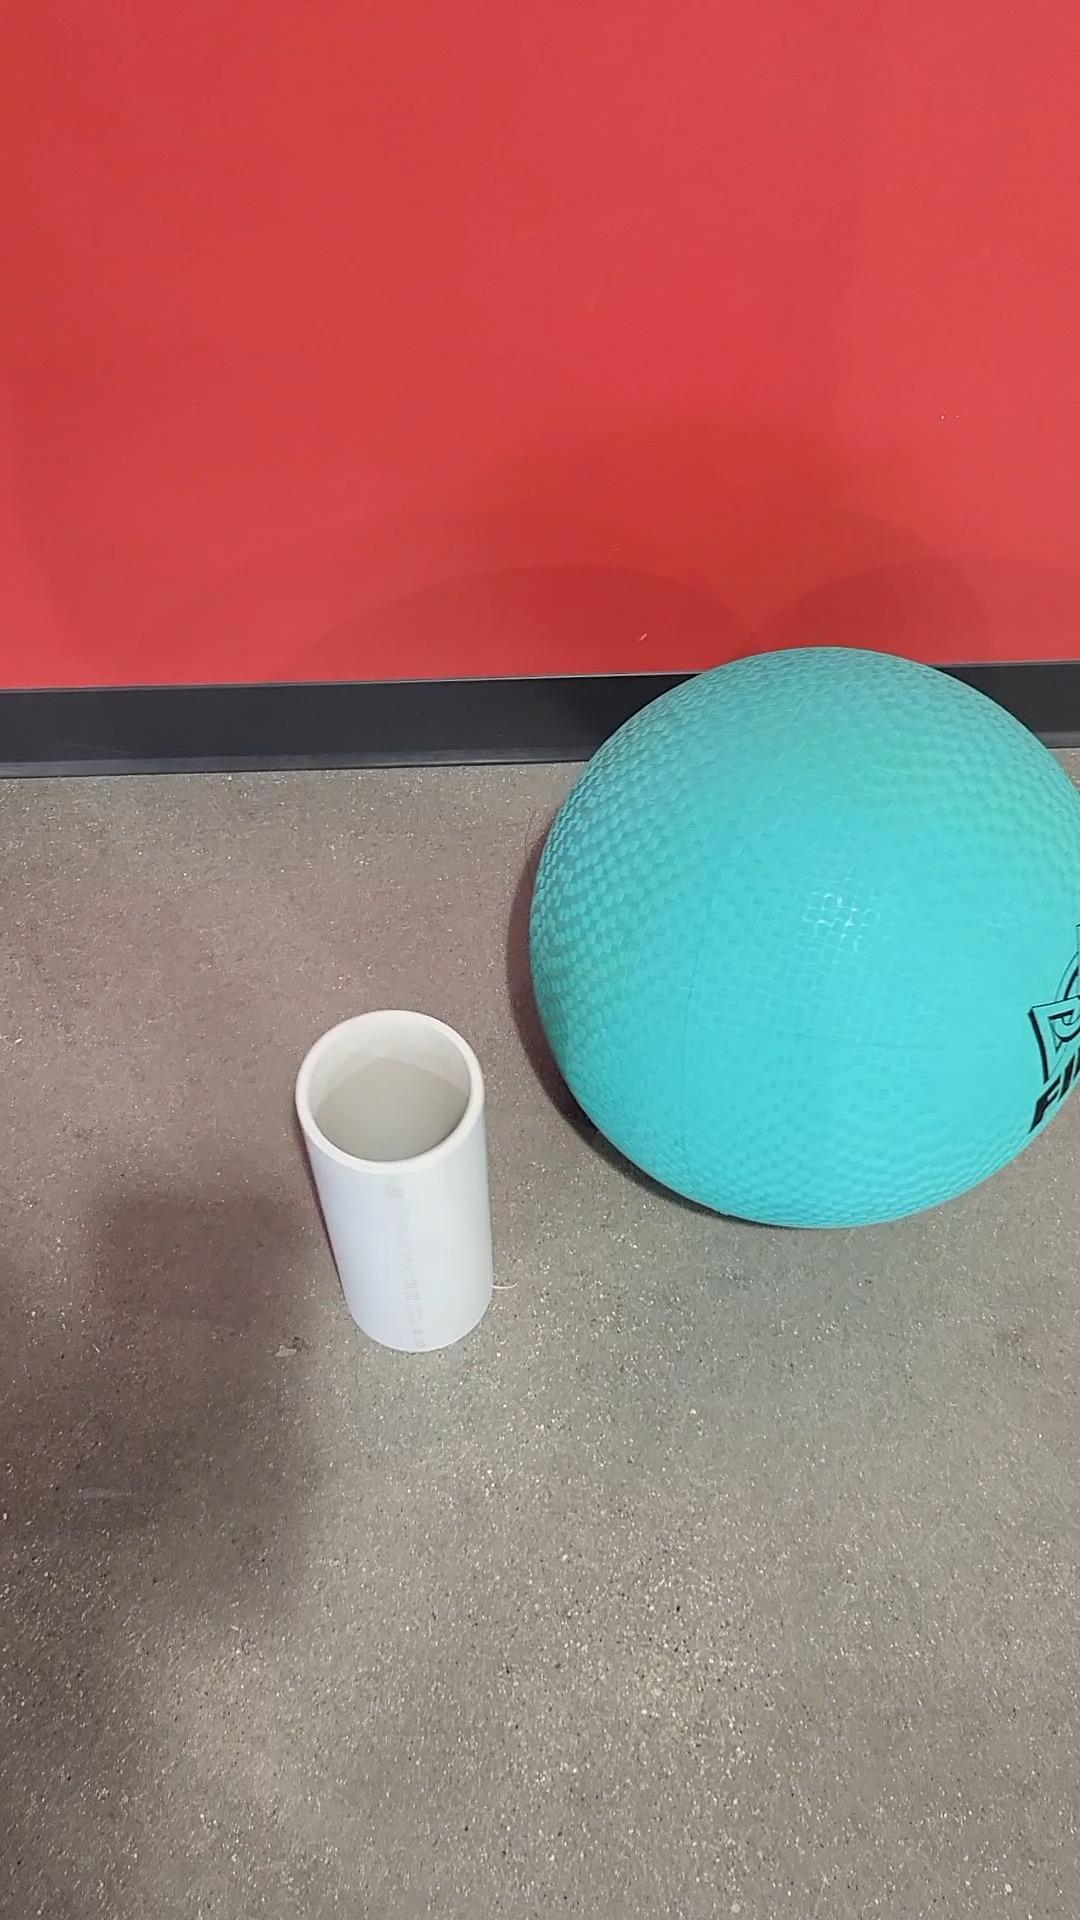algae: (521, 640, 1079, 1236)
coral: (297, 1007, 498, 1356)
